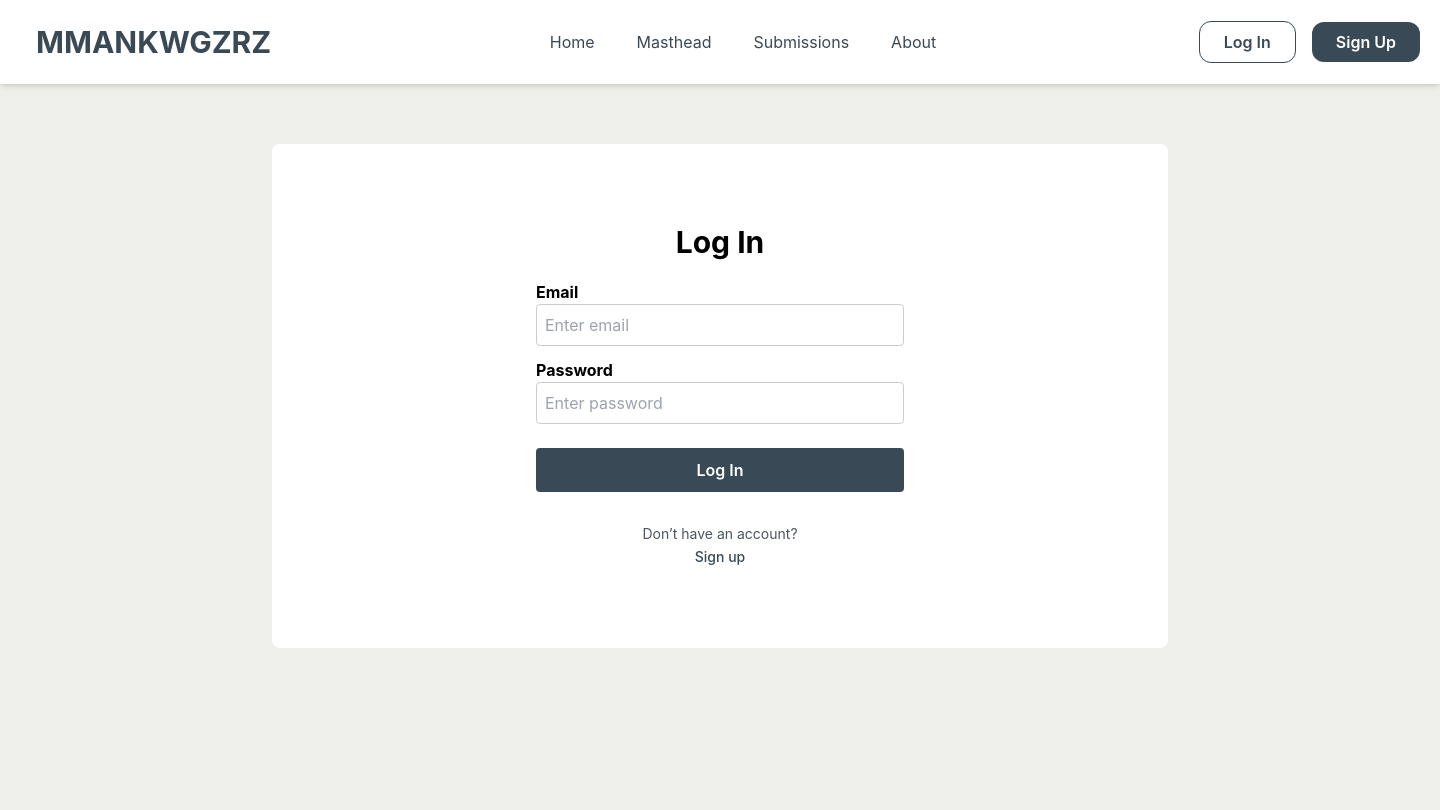
Scenario: App (guest view) › renders register page
Click the link "Sign Up" at point(1366, 42), box [1312,22,1420,62]
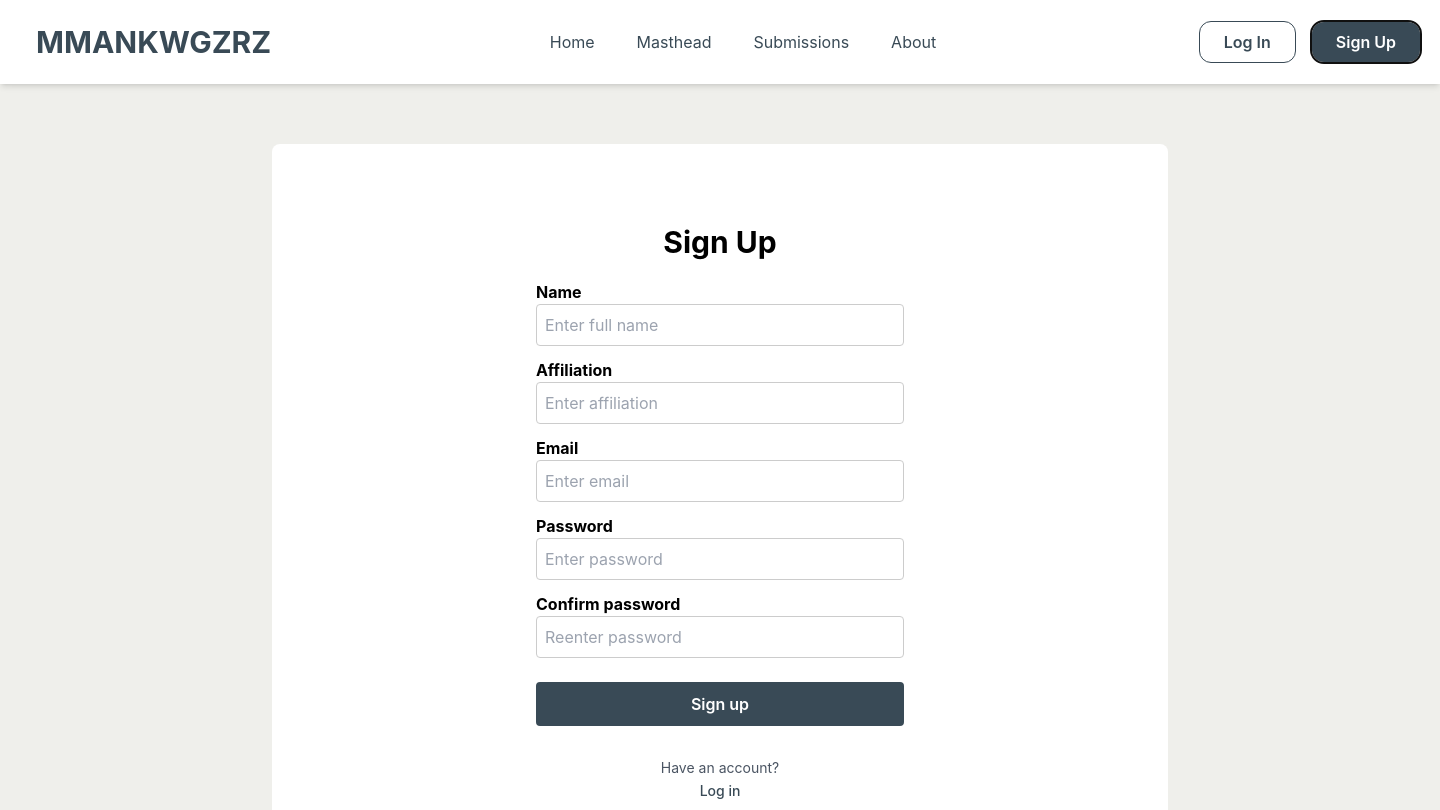
Check: the field labelled "Email" is shown, box [536,460,904,502]
Check: the password field labelled "Confirm password" is shown, box [536,616,904,658]
Check: the button "Sign up" is shown, box [536,682,904,726]
